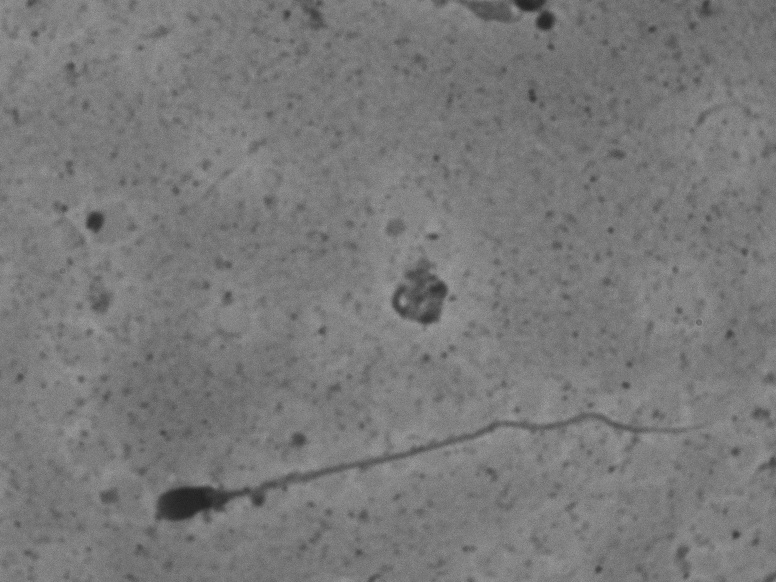Abnormal: (111, 399, 750, 529)
